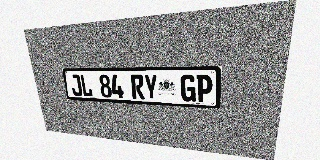4: (110, 75, 124, 98)
8: (98, 75, 112, 98)
G: (181, 75, 196, 102)
J: (70, 75, 83, 96)
L: (80, 75, 93, 97)
P: (196, 75, 213, 103)
R: (131, 75, 145, 99)
Y: (144, 75, 158, 100)
